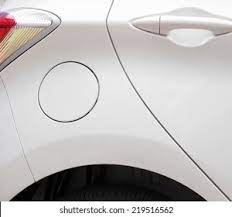closed: (35, 57, 102, 123)
